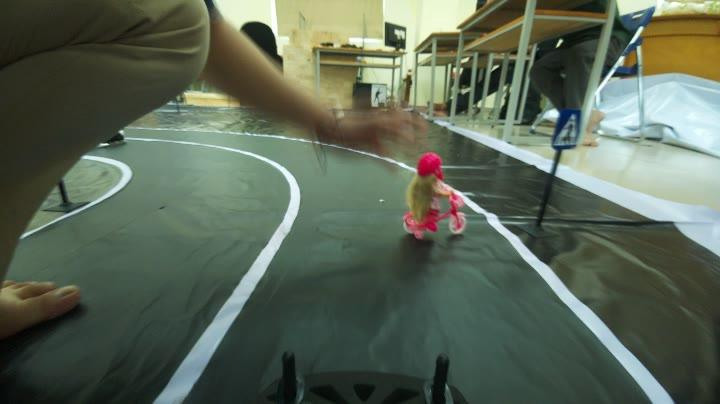pedestrian: (401, 150, 472, 242), (548, 111, 586, 156)
